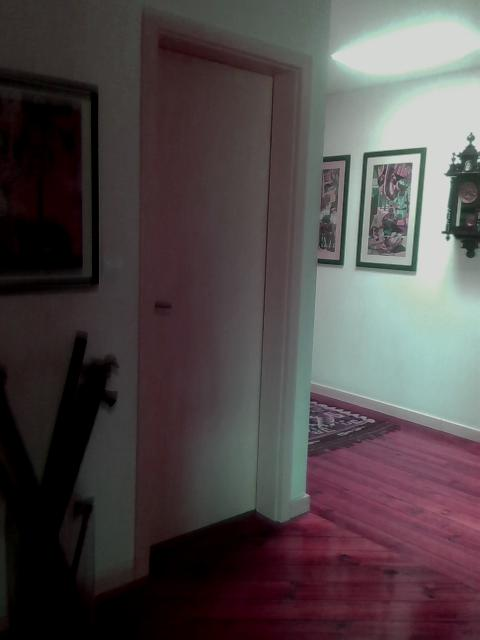closed_door: (135, 5, 305, 588)
